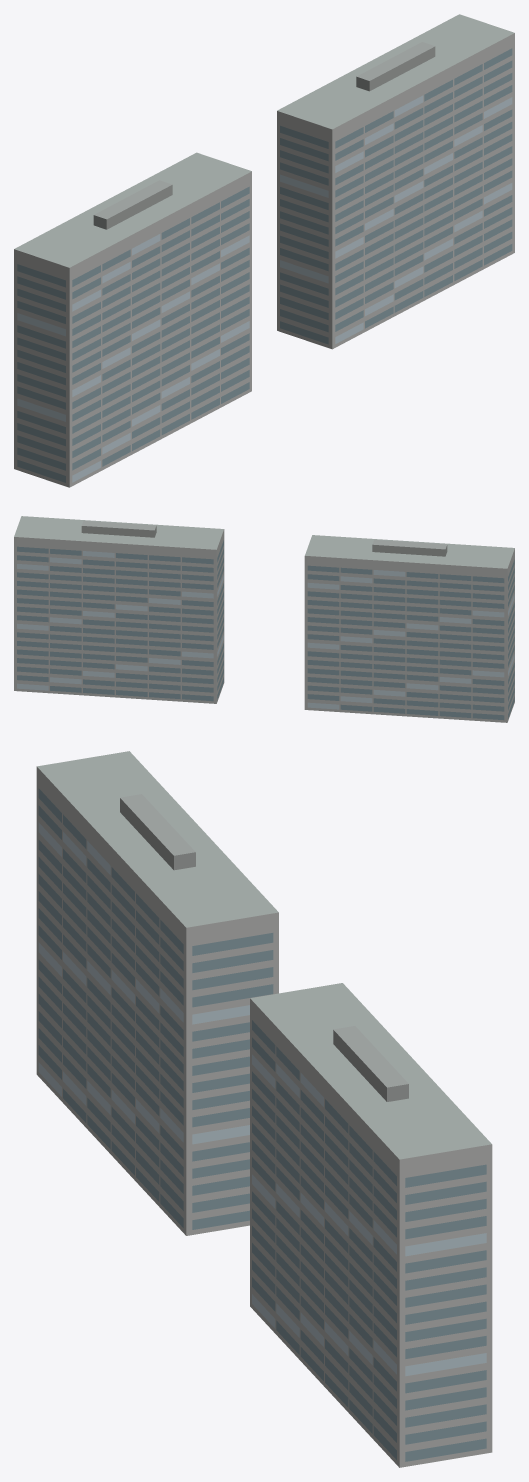
The model's file is apt-a10024815.glb.
3 renders of one model, top to bottom at view 1: azimuth 30°, elevation 25°; view 2: azimuth 150°, elevation 25°; view 3: azimuth 270°, elevation 25°, orthographic. The views are drawn at different scales.
Parts seen in each view (by area): view 1: apt-a10024815; view 2: apt-a10024815; view 3: apt-a10024815.
Boxes of the visible parts, bbox=[...] form: apt-a10024815: bbox=[14, 14, 514, 487]; apt-a10024815: bbox=[14, 516, 514, 722]; apt-a10024815: bbox=[36, 751, 492, 1467].
Size of the model in its own units: 130 by 48 by 61.37.
